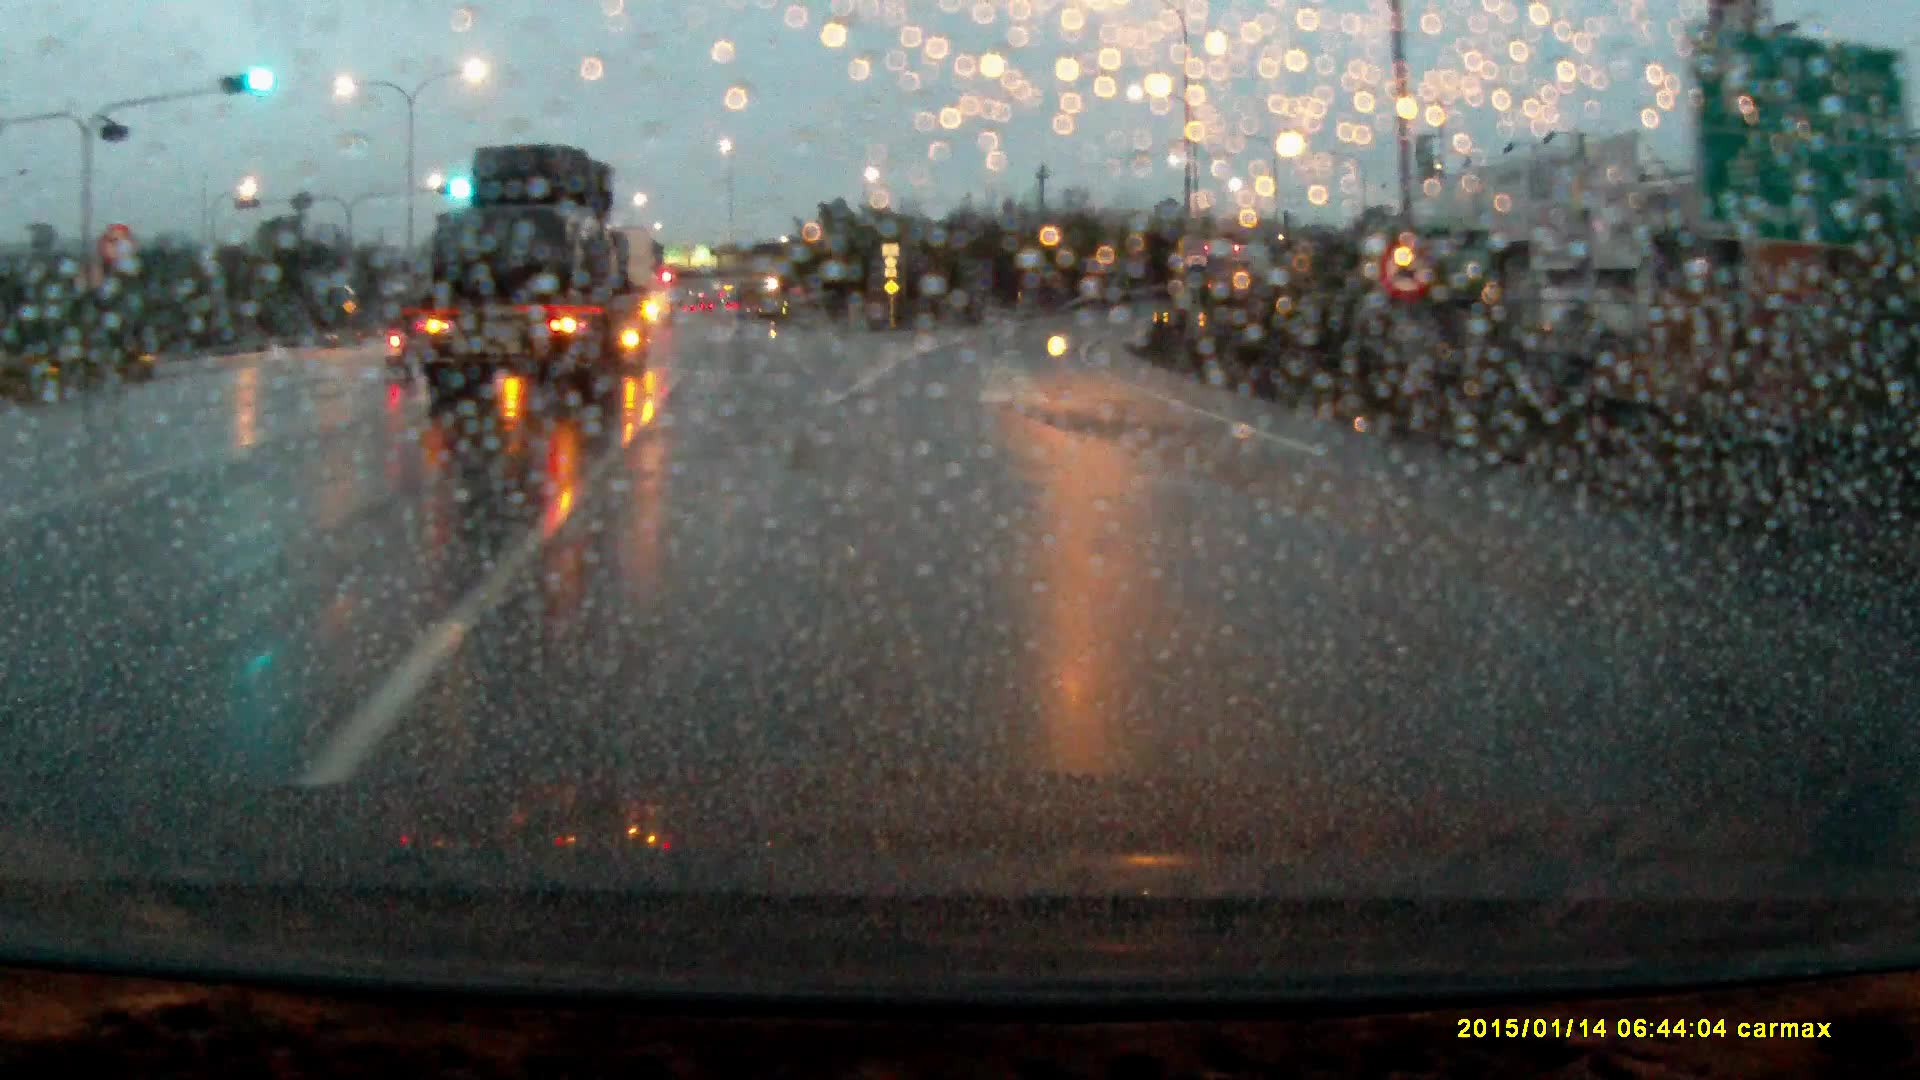rider: (377, 286, 428, 390)
vehicle: (419, 146, 655, 426)
